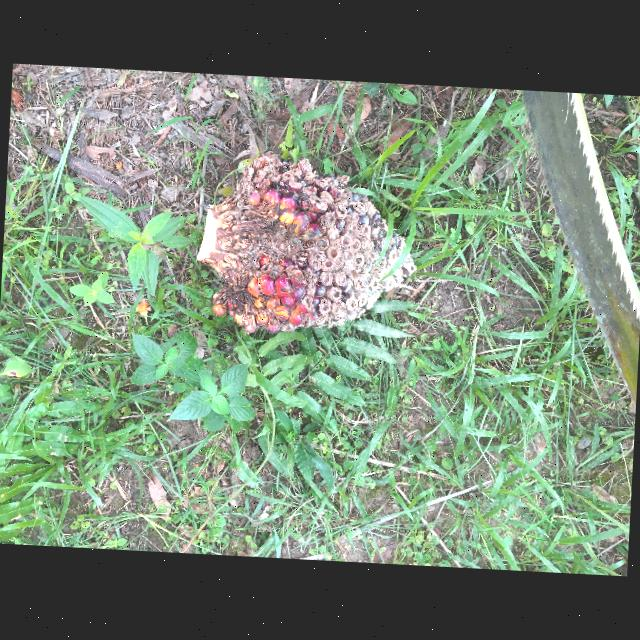Overripe: (194, 151, 419, 333)
